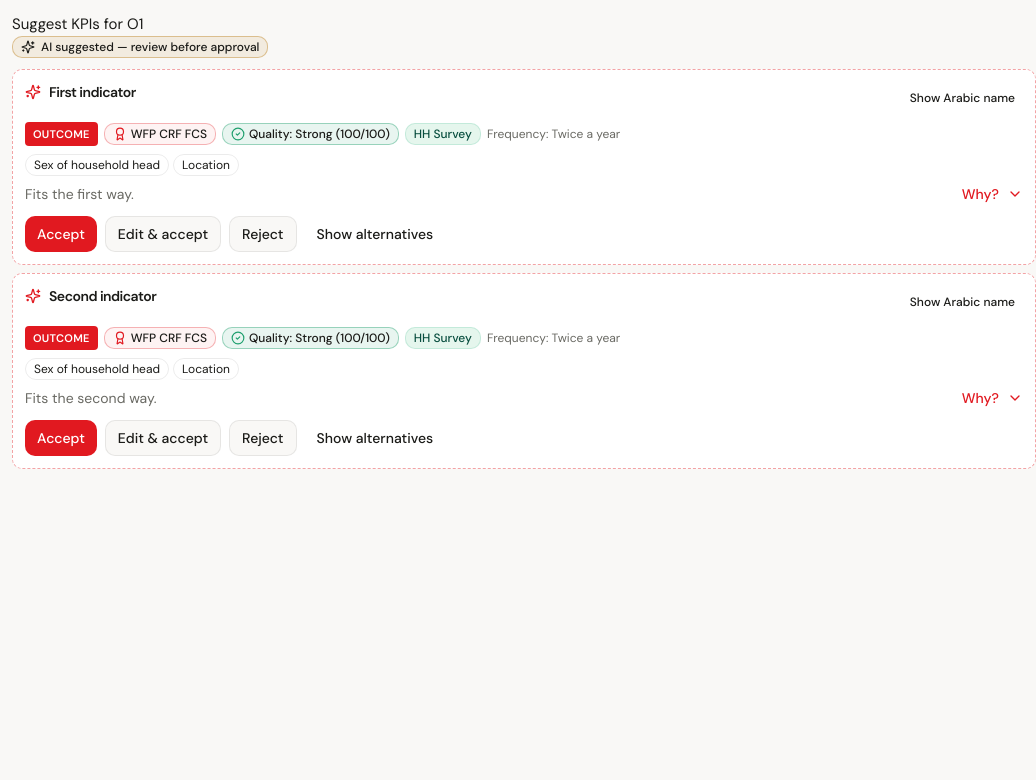
Test: KpiResultSuggestions › moves focus to the previous card when the last one is dismissed from its stub
Click the button with aria-label "Reject “Second indicator”" at (263, 438), box [229,420,297,456]
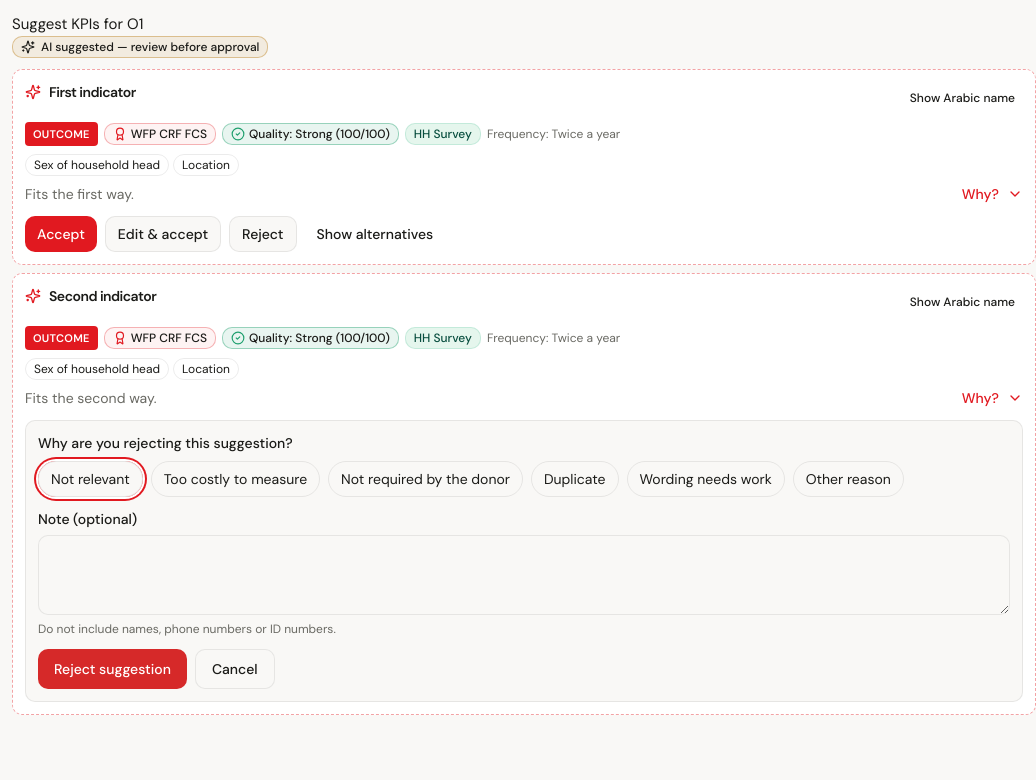
Click the radio button labelled "Duplicate" at (575, 479), box [531,461,618,497]
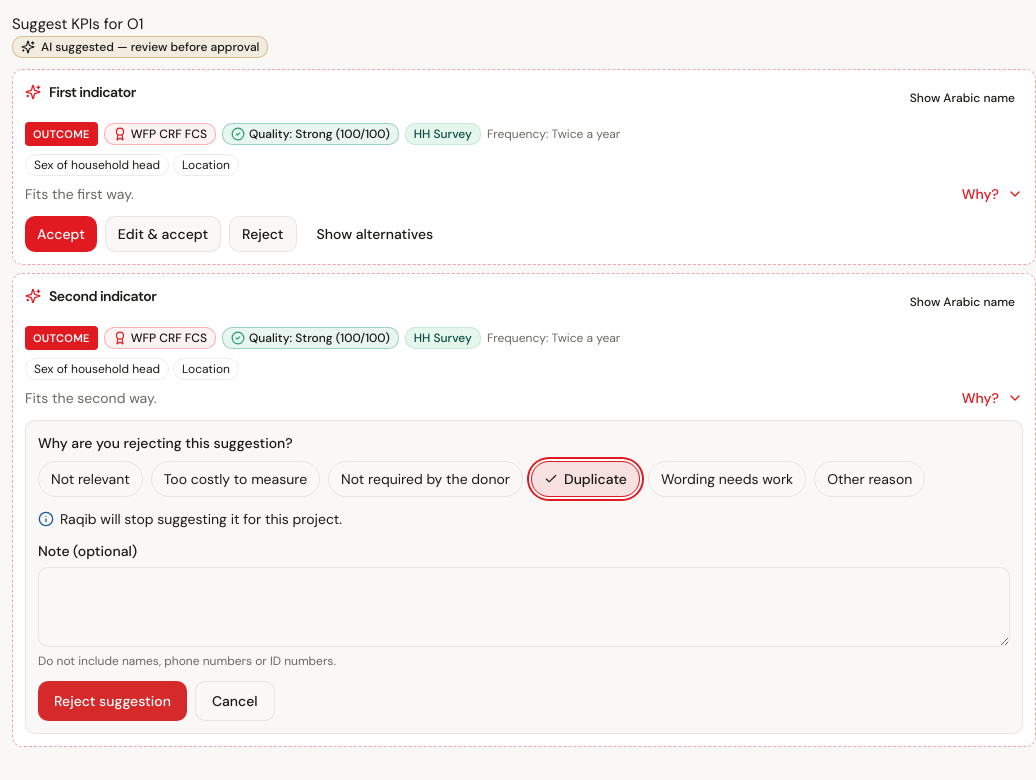
Click the button "Reject suggestion" at (112, 701), box [38,681,187,721]
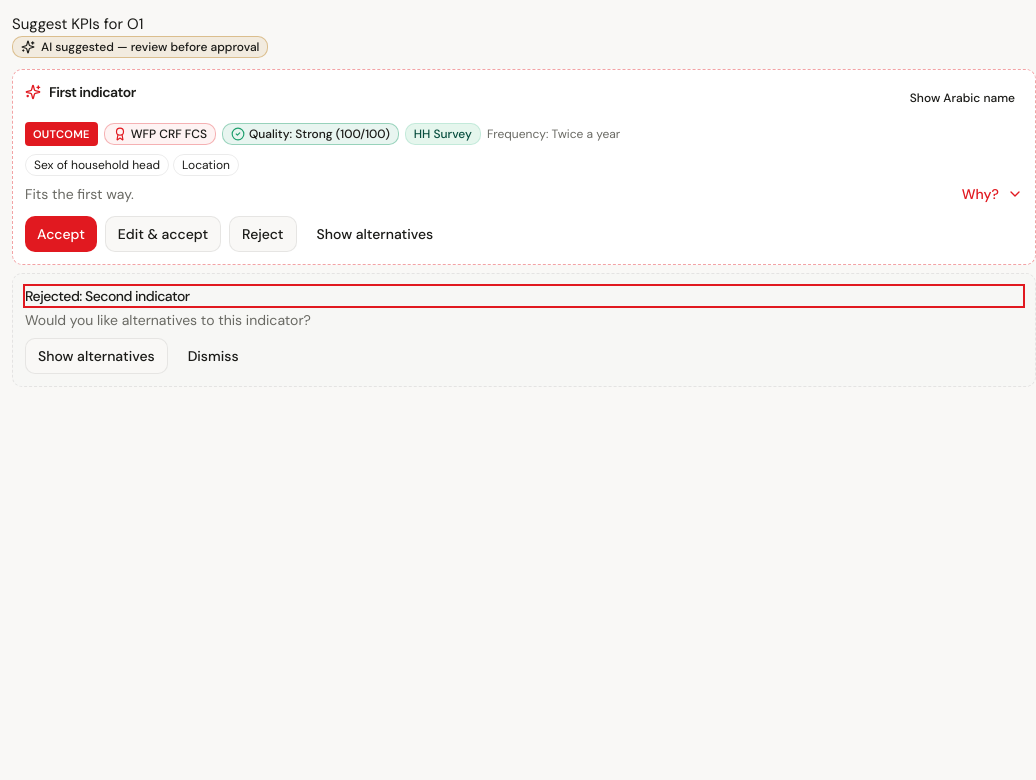
Click the button "Dismiss" at (213, 356), box [176,338,251,374]
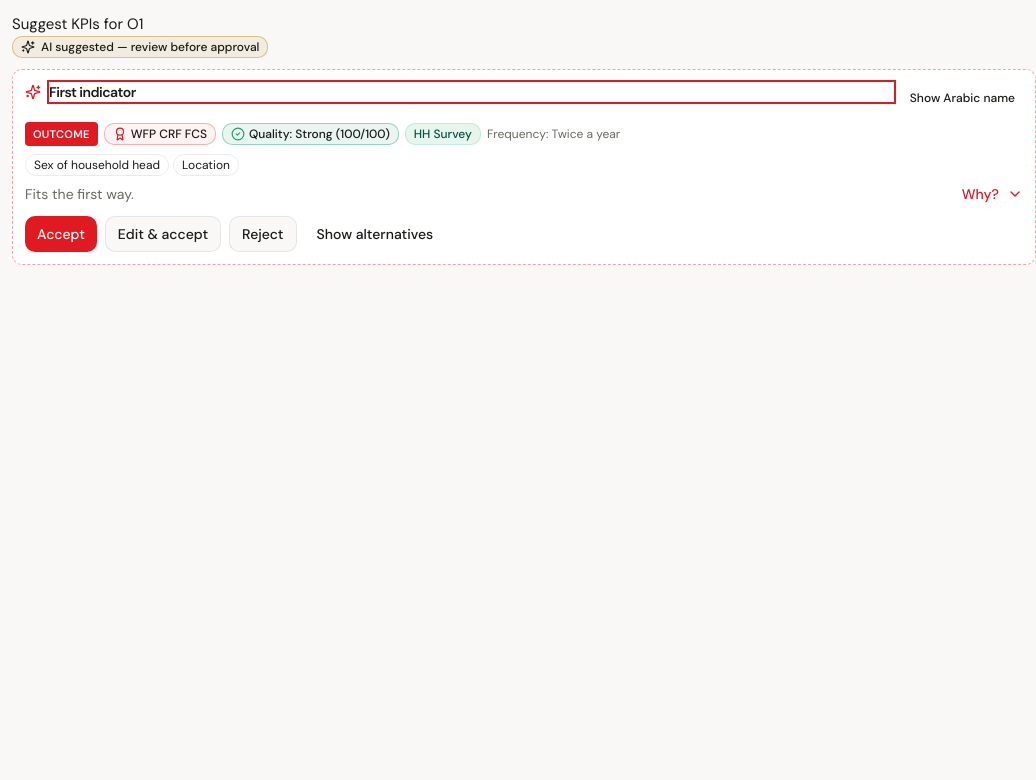
Now the heading "Rejected: Second indicator" is gone
